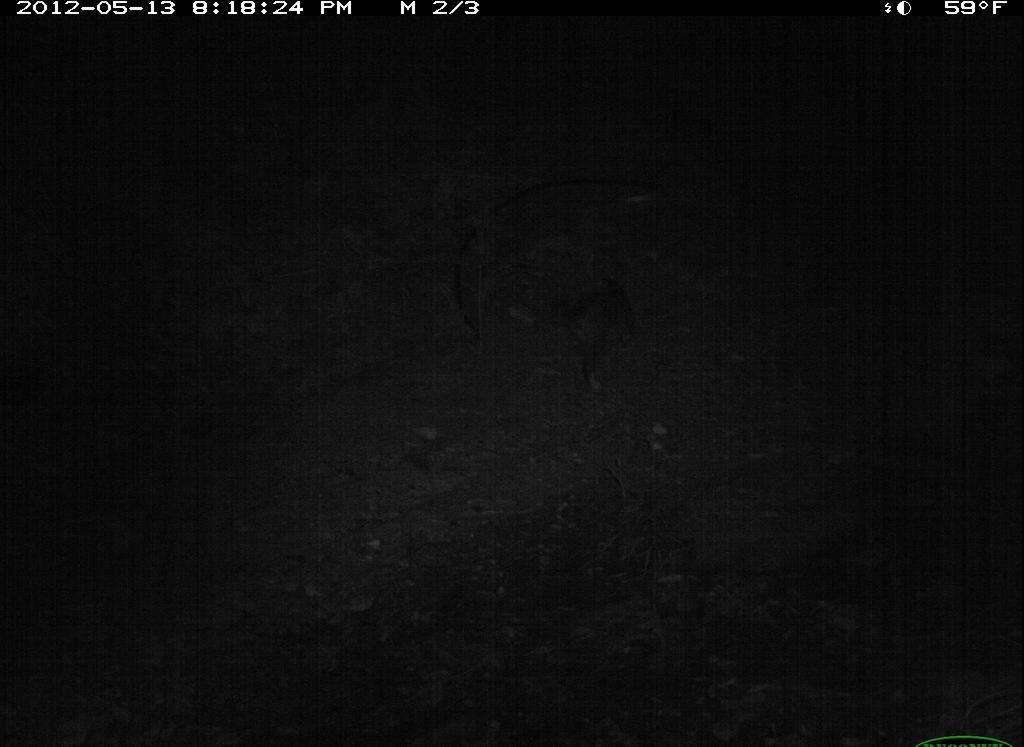cat: (538, 262, 652, 419)
